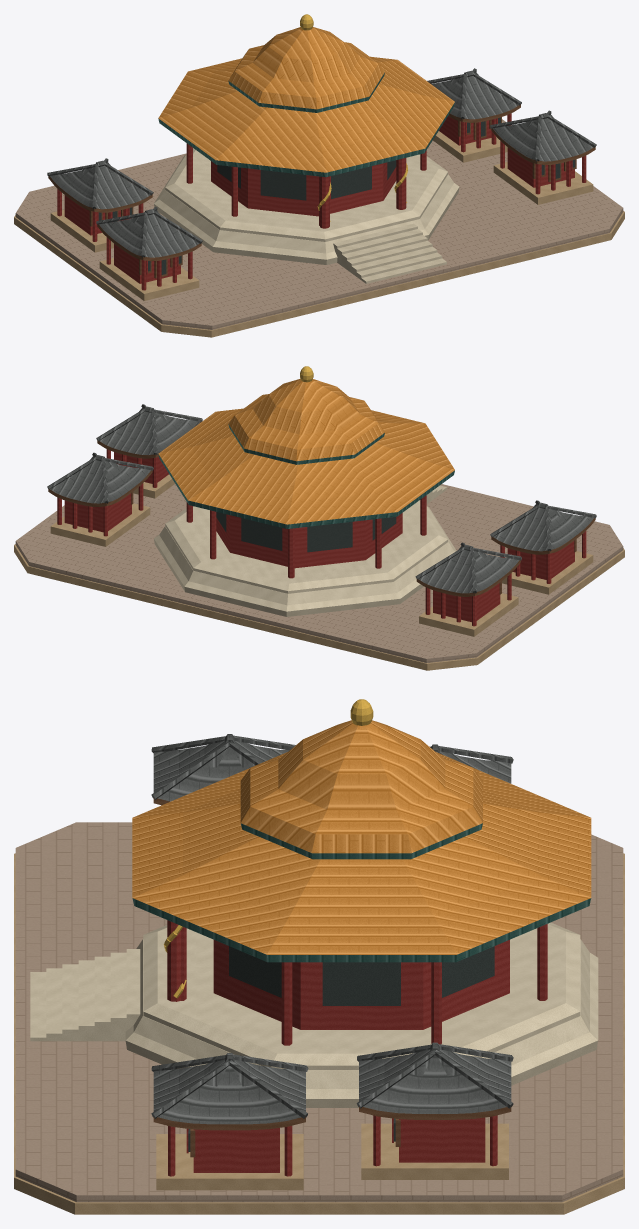
Rendered from shenyang-palace.glb.
The picture shows the model from 3 angles, top to bottom: view 1: azimuth 30°, elevation 25°; view 2: azimuth 150°, elevation 25°; view 3: azimuth 270°, elevation 25°; orthographic projection. The views are drawn at different scales.
Visible parts, largest first — view 1: 沈阳故宫; view 2: 沈阳故宫; view 3: 沈阳故宫.
Part boxes in pixels (x1,y1,x2,y2): 沈阳故宫: (14,14,624,337); 沈阳故宫: (14,366,624,670); 沈阳故宫: (14,699,624,1214).
Bounding box in the file's own units: 10.9 × 4.43 × 7.5.
Materials: 10 (10 with a texture image).
